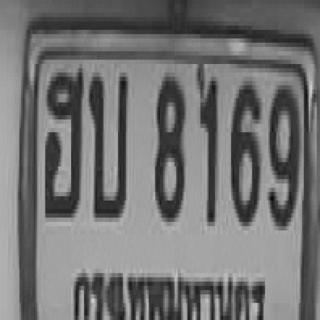A26: (87, 68, 126, 218)
A44: (44, 64, 82, 213)
N01: (196, 73, 217, 222)
N06: (230, 77, 258, 222)
N08: (154, 72, 184, 218)
N09: (267, 81, 297, 226)
